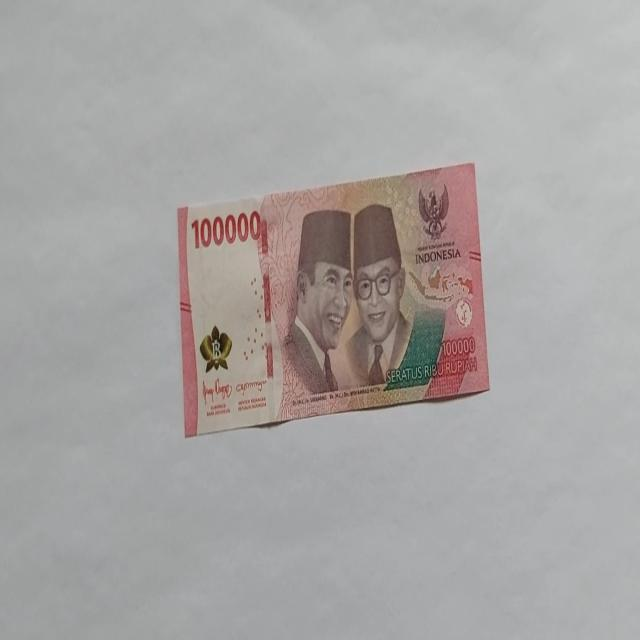seratus ribu rupiah: (177, 160, 490, 438)
